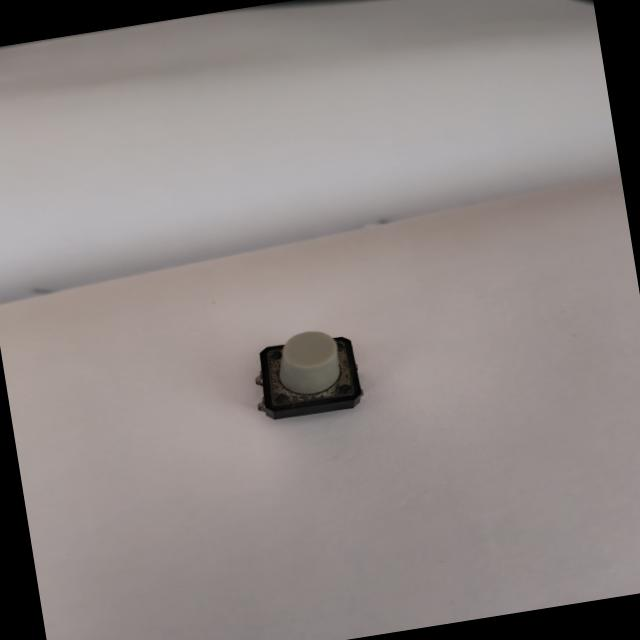switch: (237, 318, 377, 438)
